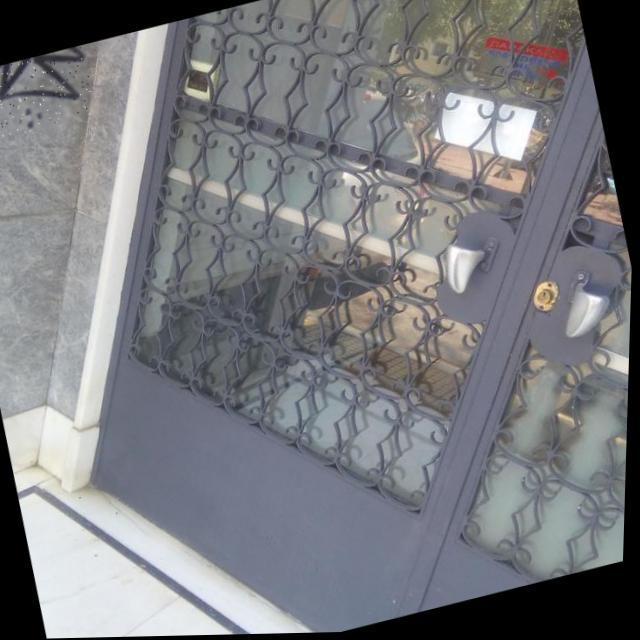-: (0, 43, 100, 150)
